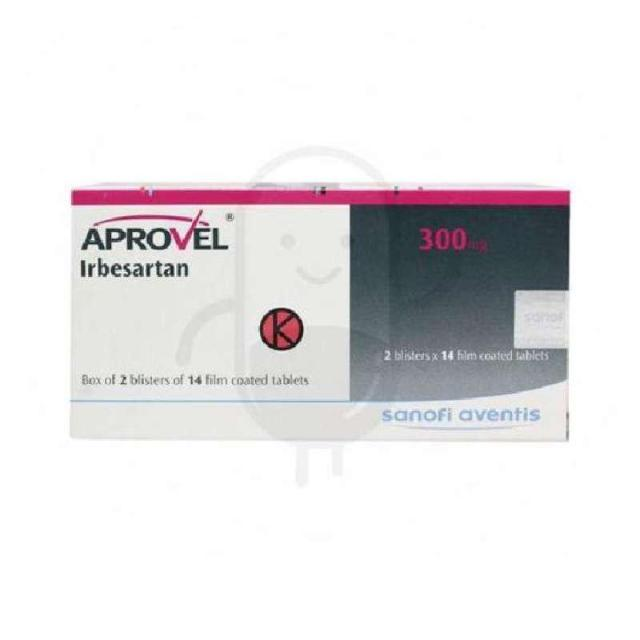drug-name: (81, 214, 231, 252)
